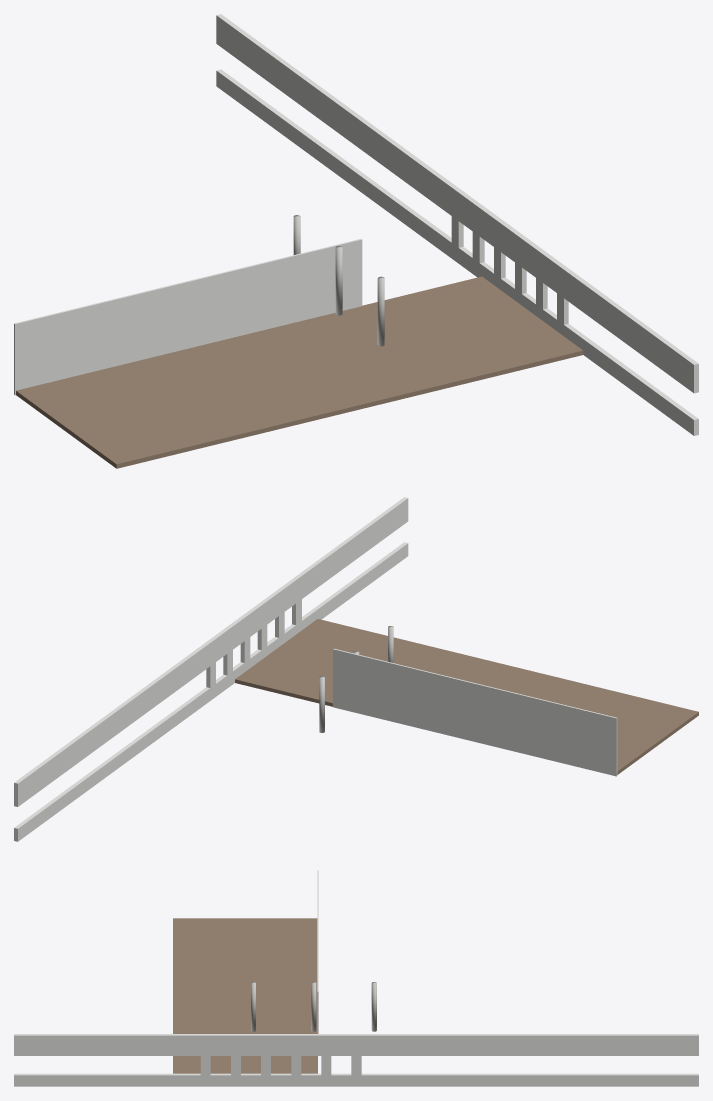
File: SM_Bygg_Helgasetr_P1_O_MS.fbx
3 views of the same model, one above another, from view 1: azimuth 30°, elevation 25°; view 2: azimuth 150°, elevation 25°; view 3: azimuth 270°, elevation 25° (orthographic). The views are drawn at different scales.
Parts seen in each view (by area): view 1: SM_Bygg_Helgasetr_P1_O_MS; view 2: SM_Bygg_Helgasetr_P1_O_MS; view 3: SM_Bygg_Helgasetr_P1_O_MS.
Part boxes in pixels (x1,y1,x2,y2): SM_Bygg_Helgasetr_P1_O_MS: (14,14,698,468); SM_Bygg_Helgasetr_P1_O_MS: (14,497,698,841); SM_Bygg_Helgasetr_P1_O_MS: (14,870,698,1086).
Bounding box in the file's own units: 68.17 × 38.93 × 5.6.
